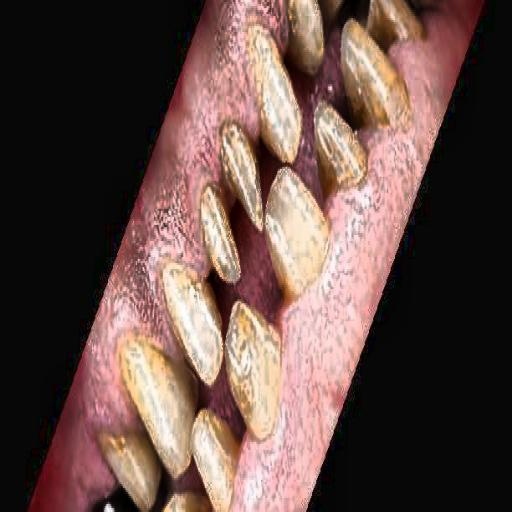Calculus: (348, 26, 418, 156), (240, 2, 290, 148), (316, 93, 353, 224), (232, 313, 268, 423)
